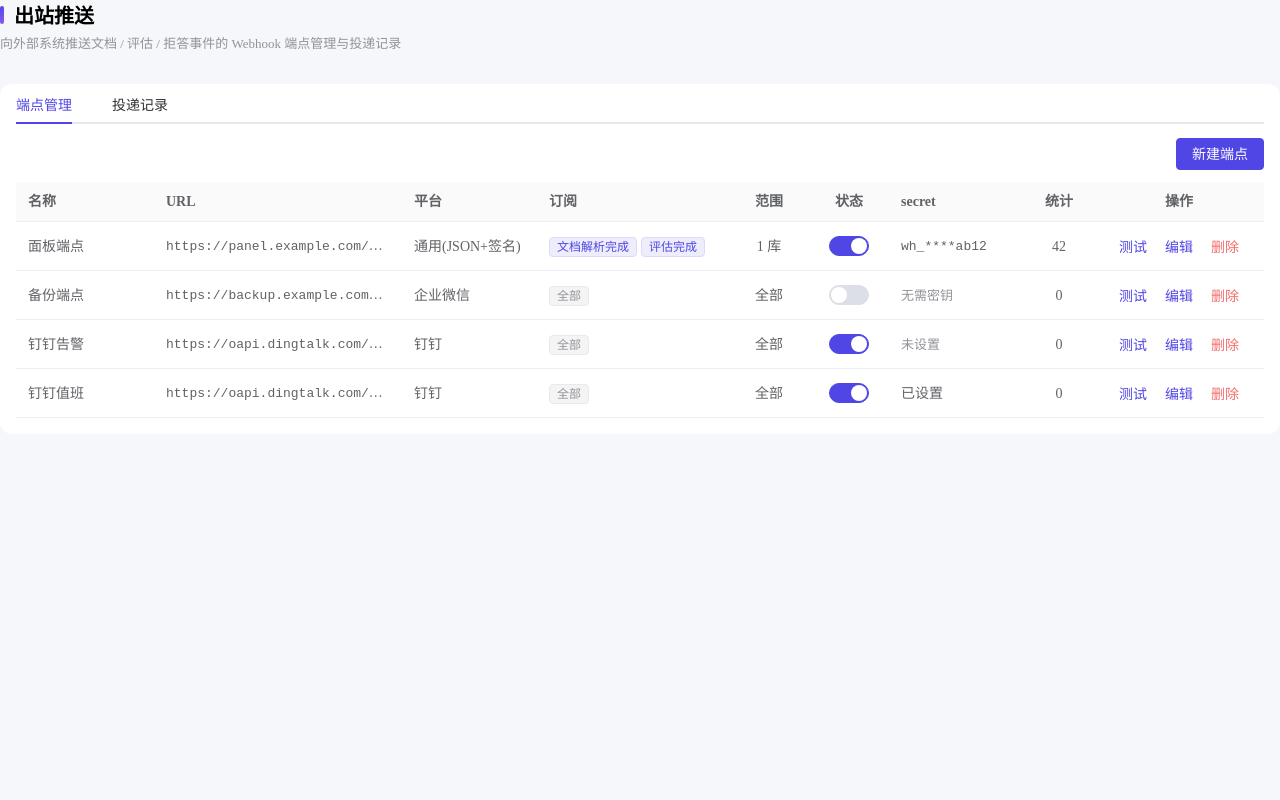
WebhooksPage › edit dialog prefills row values after a prior create-dialog open
This screenshot has width=1280, height=800.
What coordinates should you click on to do the following:
click the button "新建端点"
I would click on:
 (1220, 154)
Its box is 1176,138 -> 1264,170.
(page scrolled)
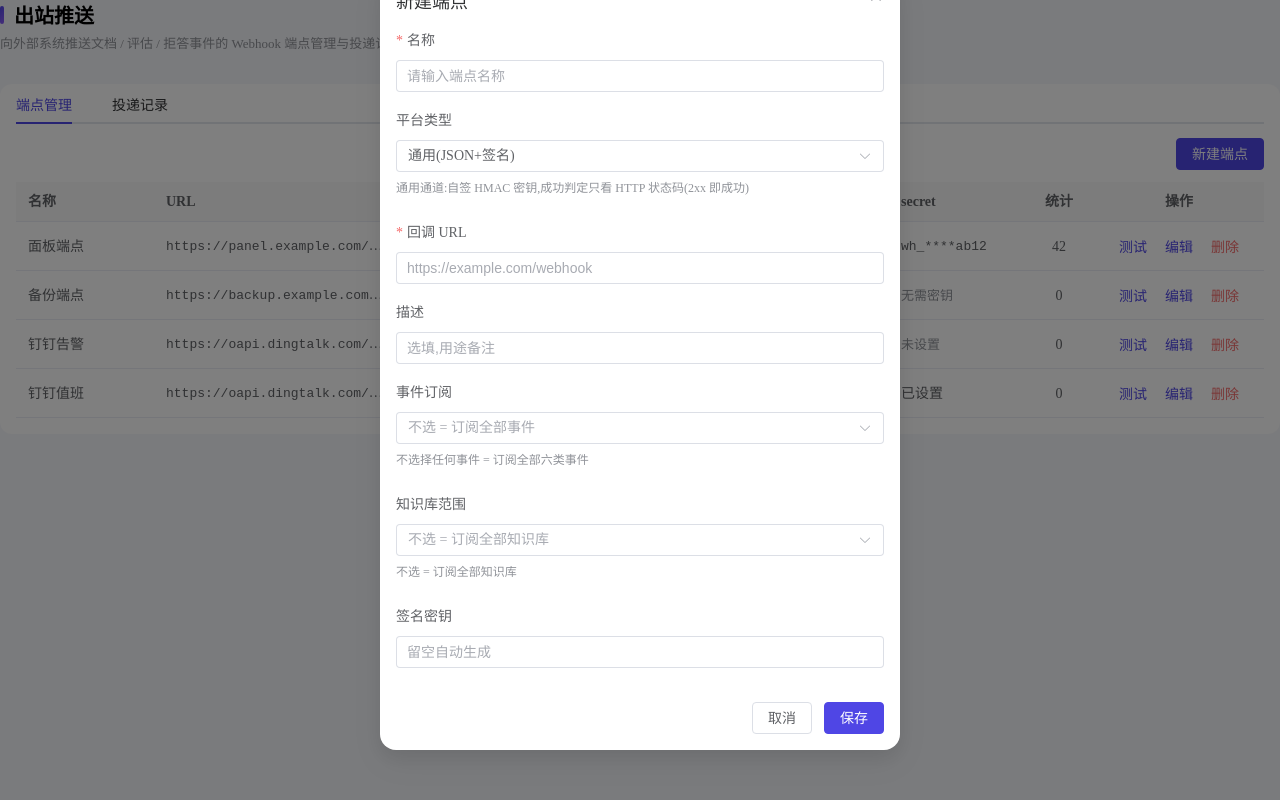
Now the button "取消" is shown
What coordinates should you click on to do the following:
click the button "取消"
I would click on:
 (782, 718)
Its box is 752,702 -> 812,734.
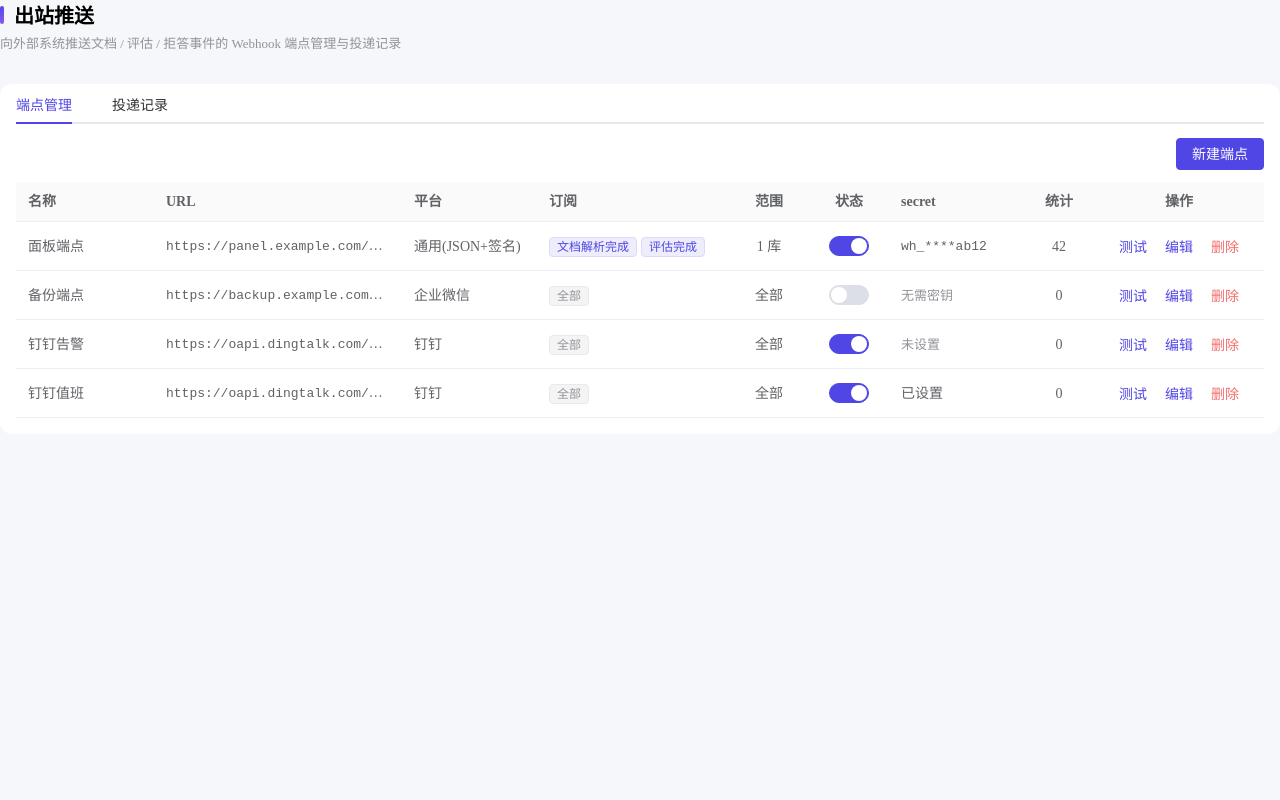
What coordinates should you click on to do the following:
click the button "编辑" in the row of "面板端点"
I would click on:
 (1179, 247)
Its box is 1162,237 -> 1196,257.
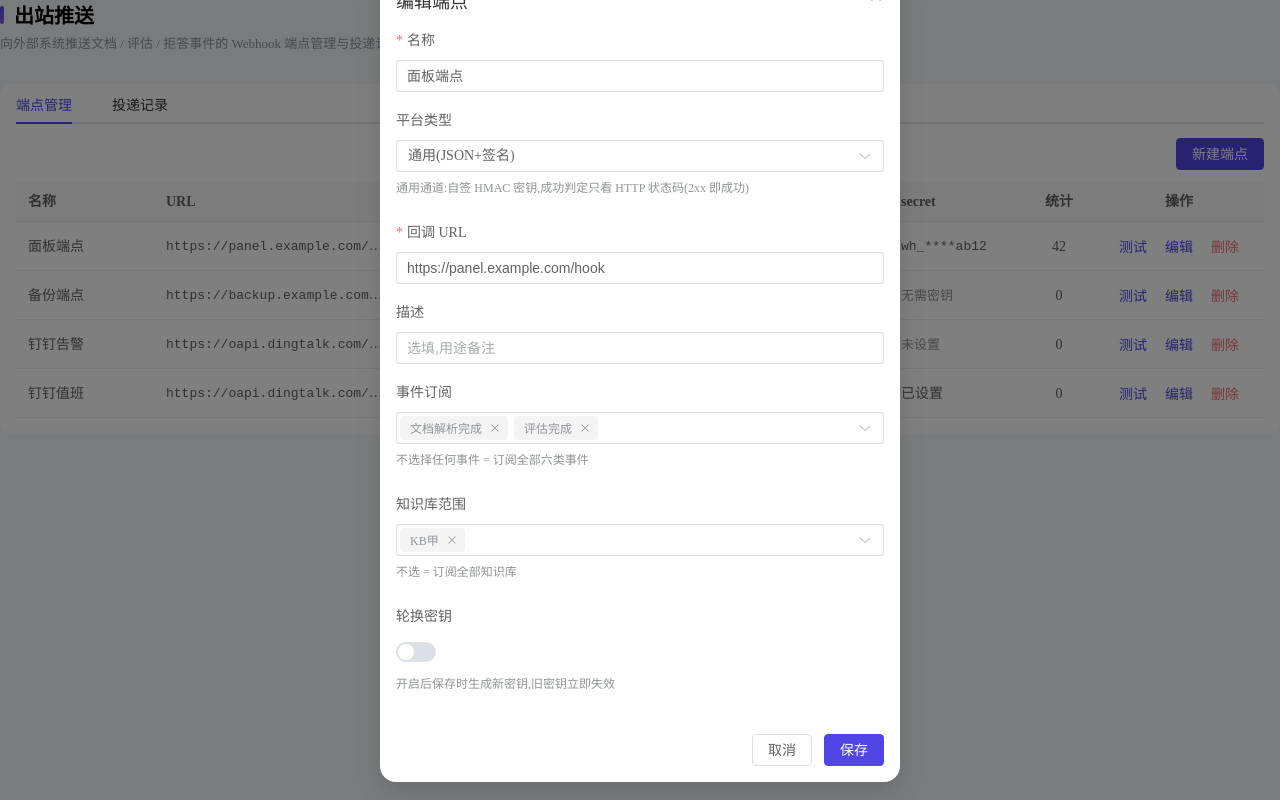
Now the text "编辑端点" is shown, box 396,0 -> 468,12
Now the field with placeholder "请输入端点名称" holds "面板端点", box 407,61 -> 873,91
Now the field with placeholder "https://example.com/webhook" holds "https://panel.example.com/hook", box 407,253 -> 873,283
